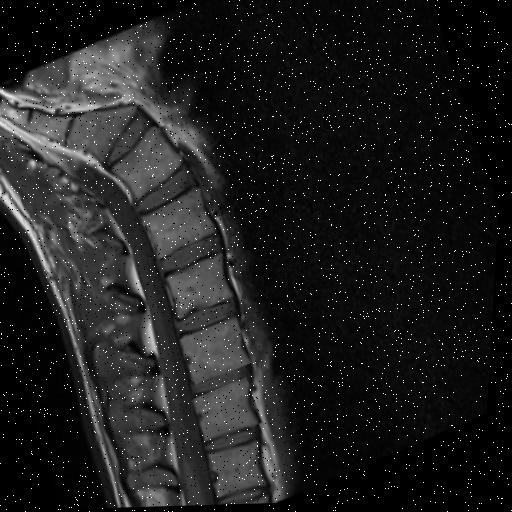L1: (197, 379, 261, 442)
L2: (183, 317, 252, 385)
L3: (169, 256, 235, 318)
L4: (143, 189, 216, 259)
L5: (113, 129, 184, 200)
S1: (67, 108, 138, 162)
